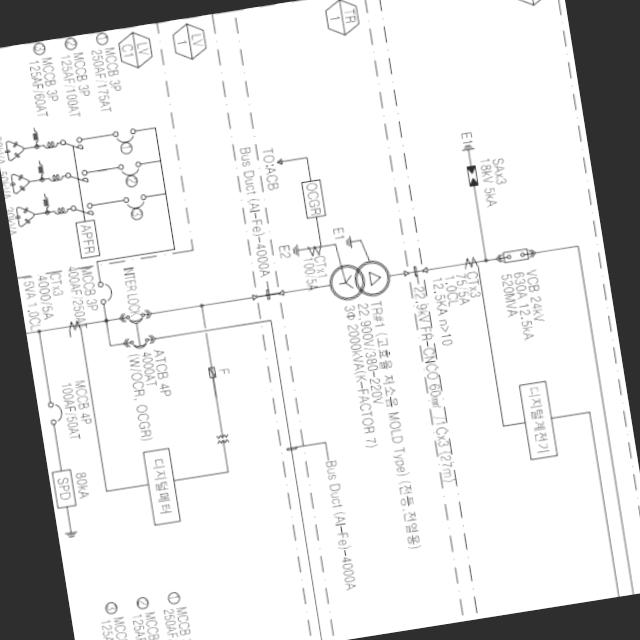CB: (502, 247, 528, 262)
CH: (404, 268, 409, 276), (423, 266, 428, 272)
CT: (306, 242, 324, 255), (462, 254, 478, 268), (68, 319, 82, 332)
GND: (460, 142, 475, 152), (344, 234, 354, 249), (291, 242, 300, 258), (63, 529, 78, 538)
LA: (466, 164, 478, 185)
MCCB: (47, 399, 63, 424), (118, 160, 142, 176), (98, 279, 114, 303), (112, 128, 137, 143), (122, 194, 146, 209)
PF2: (206, 366, 216, 378)
PT: (215, 432, 229, 443)
SC: (2, 138, 25, 160), (8, 171, 30, 194), (13, 204, 35, 226)
SR: (51, 204, 70, 214), (48, 172, 64, 181), (42, 140, 58, 148)
TR: (326, 256, 394, 302)
